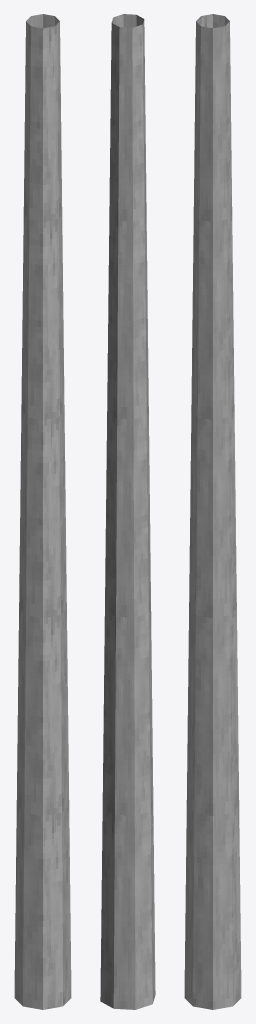
Rendered from poste_Concreto.fbx.
3 renders of one model, left to right at view 1: azimuth 90°, elevation 25°; view 2: azimuth 150°, elevation 25°; view 3: azimuth 270°, elevation 25°, orthographic.
Parts seen in each view (by area): view 1: poste_concreto; view 2: poste_concreto; view 3: poste_concreto.
Part boxes in pixels (x1,y1,x2,y2): poste_concreto: [14, 14, 71, 1009]; poste_concreto: [100, 14, 155, 1009]; poste_concreto: [184, 14, 241, 1009].
Bounding box in the file's own units: 0.7674 × 14.51 × 0.7673.
